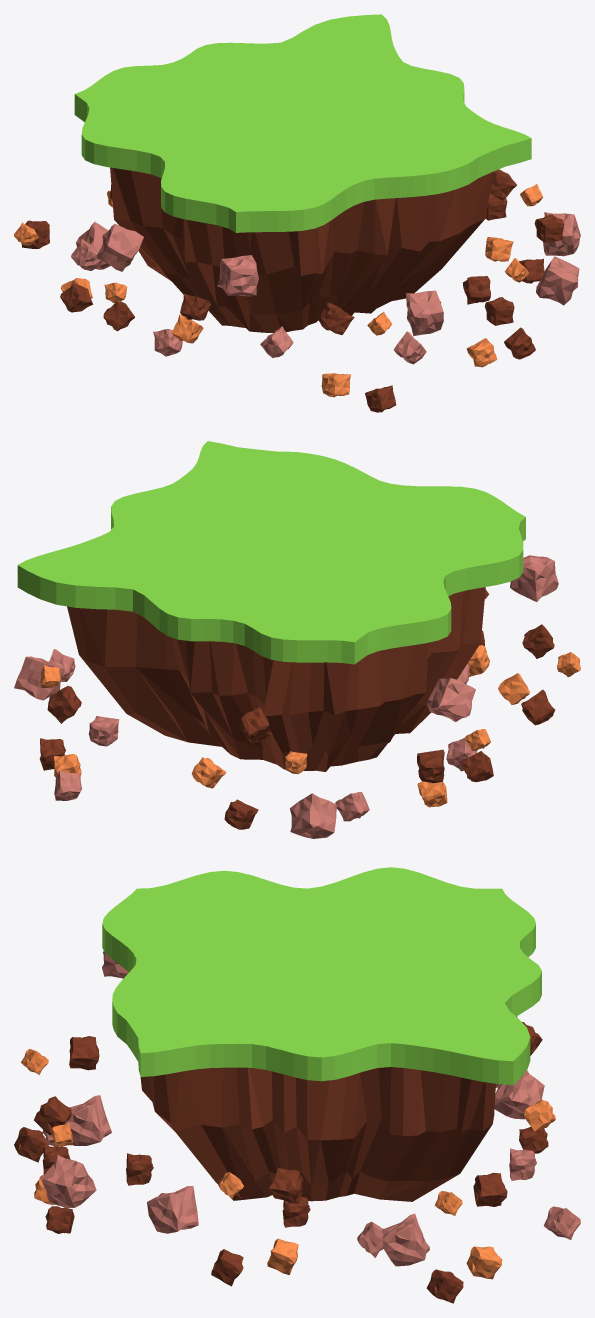
The model's file is isla.fbx.
3 views of the same model, one above another, from view 1: azimuth 30°, elevation 25°; view 2: azimuth 150°, elevation 25°; view 3: azimuth 270°, elevation 25° (orthographic). The views are drawn at different scales.
Parts seen in each view (by area): view 1: Plane, Plane.001, Cube.018, Cube.024, Cube.030, Cube.012, Cube.042, Cube.022, Cube.002, Cube.003, Cube.028, Cube.014 (+14 smaller); view 2: Plane, Plane.001, Cube.006, Cube.012, Cube.018, Cube.036, Cube.034, Cube.010, Cube.004, Cube, Cube.016, Cube.020 (+9 smaller); view 3: Plane, Plane.001, Cube.030, Cube.042, Cube.036, Cube.024, Cube.006, Cube.034, Cube.040, Cube.022, Cube.037, Cube.028 (+12 smaller).
Part boxes in pixels (x1,y1,x2,y2): Plane: (74, 14, 531, 232); Plane.001: (110, 167, 493, 332); Cube.018: (217, 255, 258, 296); Cube.024: (405, 290, 443, 336); Cube.030: (536, 256, 579, 305); Cube.012: (97, 223, 143, 271); Cube.042: (543, 212, 580, 256); Cube.022: (318, 302, 354, 334); Cube.002: (534, 214, 564, 242); Cube.003: (484, 297, 514, 325); Cube.028: (463, 276, 490, 304); Cube.014: (60, 283, 93, 312); Plane: (17, 441, 525, 664); Plane.001: (67, 587, 485, 771); Cube.006: (290, 793, 336, 838); Cube.012: (427, 678, 475, 721); Cube.018: (510, 555, 558, 601); Cube.036: (14, 656, 64, 700); Cube.034: (47, 686, 81, 723); Cube.010: (417, 749, 444, 783); Cube.004: (239, 707, 272, 744); Cube: (89, 716, 119, 746); Cube.016: (521, 689, 555, 725); Cube.020: (522, 624, 554, 658); Plane: (102, 867, 541, 1084); Plane.001: (140, 1016, 517, 1201); Cube.030: (41, 1154, 96, 1207); Cube.042: (147, 1186, 198, 1233); Cube.036: (382, 1213, 429, 1266); Cube.024: (63, 1095, 111, 1145); Cube.006: (494, 1070, 544, 1119); Cube.034: (473, 1172, 507, 1206); Cube.040: (269, 1168, 303, 1203); Cube.022: (69, 1036, 99, 1070); Cube.037: (466, 1246, 502, 1279); Cube.028: (34, 1096, 71, 1135).
Bounding box in the file's own units: 1980 × 885 × 1883.
